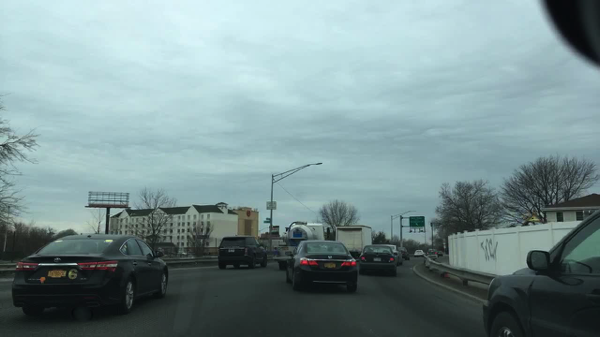car: (481, 210, 598, 337), (11, 233, 169, 316), (286, 239, 357, 294), (217, 234, 267, 270), (359, 244, 397, 277), (388, 245, 403, 265), (398, 246, 410, 261), (413, 250, 425, 257), (426, 249, 436, 257), (436, 250, 443, 258)
traffic sign: (408, 216, 424, 228), (266, 202, 278, 210), (263, 220, 271, 224)
truck: (274, 220, 330, 268), (335, 225, 372, 258)
